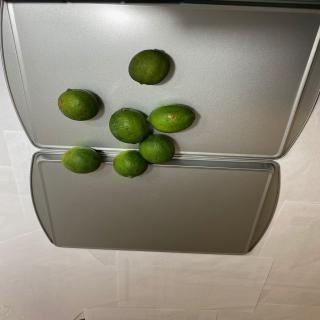Lemon: (128, 49, 170, 85), (108, 107, 148, 144), (58, 88, 100, 121), (138, 134, 176, 164), (62, 146, 102, 174), (113, 150, 148, 178)
